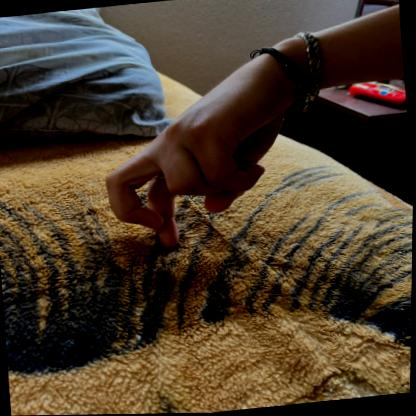P: (95, 36, 324, 258)
